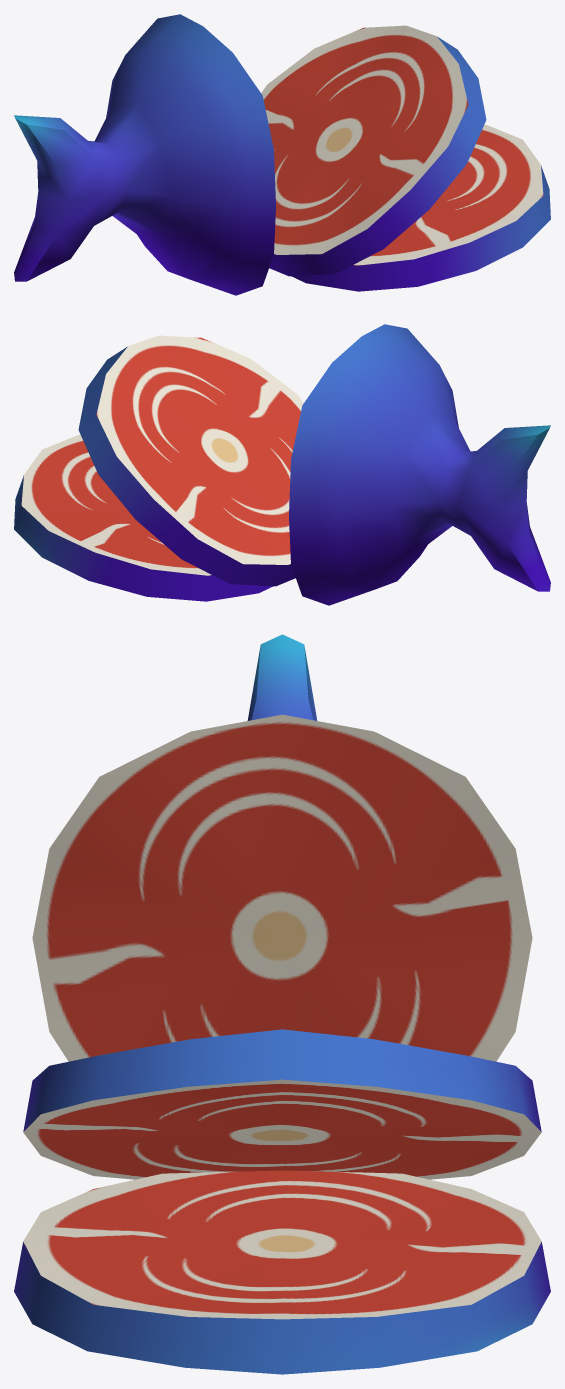
File: Fish_01_S2.fbx
The picture shows the model from 3 angles, top to bottom: view 1: azimuth 30°, elevation 25°; view 2: azimuth 150°, elevation 25°; view 3: azimuth 270°, elevation 25°; orthographic projection. The views are drawn at different scales.
Parts seen in each view (by area): view 1: Fish_01_S2; view 2: Fish_01_S2; view 3: Fish_01_S2.
Boxes of the visible parts, x1,y1,x2,y2 form: Fish_01_S2: [14, 14, 550, 295]; Fish_01_S2: [14, 324, 550, 605]; Fish_01_S2: [14, 634, 550, 1374].
Size of the model in its own units: 83.04 by 39.55 by 42.86.
